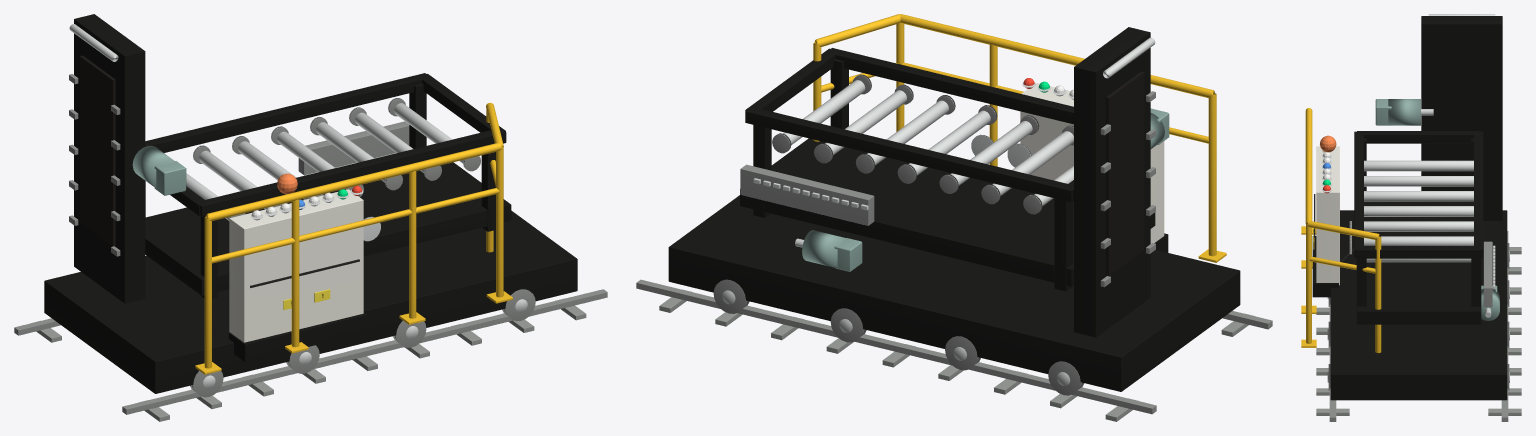
File: photo_transfer_cart_v4.glb
3 views of the same model, side by side, from view 1: azimuth 30°, elevation 25°; view 2: azimuth 150°, elevation 25°; view 3: azimuth 270°, elevation 25° (orthographic). The views are drawn at different scales.
Parts seen in each view (by area): view 1: cart_v4_heavy_black_track_chassis, cart_v4_front_electrical_cabinet_box, cart_v4_vertical_black_lift_head_plate, cart_v4_top_black_machine_frame, cart_v4_lift_head_refractory_inner_panel, cart_v4_upper_transfer_bridge_right, cart_v4_upper_transfer_bridge_left, cart_v4_track_flat_rail_-0.72, cart_v4_operator_front_top_rail, cart_v4_front_cabinet_black_plinth, cart_v4_operator_front_mid_rail, cart_v4_side_chain_cover (+19 smaller); view 2: cart_v4_heavy_black_track_chassis, cart_v4_top_black_machine_frame, cart_v4_vertical_black_lift_head_plate, cart_v4_lift_head_refractory_inner_panel, cart_v4_upper_transfer_bridge_right, cart_v4_track_flat_rail_0.72, cart_v4_upper_transfer_bridge_left, cart_v4_side_chain_cover, cart_v4_front_electrical_cabinet_box, cart_v4_operator_front_top_rail, cart_v4_upper_transfer_bridge_rear, cart_v4_transfer_frame_post_-1.06_0.48 (+19 smaller); view 3: cart_v4_heavy_black_track_chassis, cart_v4_vertical_black_lift_head_plate, cart_v4_top_black_machine_frame, cart_v4_front_electrical_cabinet_box, cart_v4_upper_transfer_bridge_rear, cart_v4_upper_transfer_bridge_front, cart_v4_black_bed_live_roller_01, cart_v4_black_bed_live_roller_02, cart_v4_black_bed_live_roller_03, cart_v4_black_bed_live_roller_04, cart_v4_black_bed_live_roller_05, cart_v4_upper_transfer_bridge_right (+20 smaller).
Part boxes in pixels (x1,y1,x2,y2): cart_v4_heavy_black_track_chassis: (44,210,577,393); cart_v4_front_electrical_cabinet_box: (229,189,363,342); cart_v4_vertical_black_lift_head_plate: (74,14,145,303); cart_v4_top_black_machine_frame: (145,162,511,295); cart_v4_lift_head_refractory_inner_panel: (80,55,115,246); cart_v4_upper_transfer_bridge_right: (145,73,425,152); cart_v4_upper_transfer_bridge_left: (196,130,506,216); cart_v4_track_flat_rail_-0.72: (122,289,607,414); cart_v4_operator_front_top_rail: (206,143,501,220); cart_v4_front_cabinet_black_plinth: (228,312,367,362); cart_v4_operator_front_mid_rail: (211,188,499,263); cart_v4_side_chain_cover: (298,121,409,175); cart_v4_heavy_black_track_chassis: (668,195,1240,391); cart_v4_top_black_machine_frame: (740,138,1155,286); cart_v4_vertical_black_lift_head_plate: (1074,27,1150,337); cart_v4_lift_head_refractory_inner_panel: (1105,71,1144,275); cart_v4_upper_transfer_bridge_right: (745,107,1072,202); cart_v4_track_flat_rail_0.72: (636,279,1156,414); cart_v4_upper_transfer_bridge_left: (827,48,1073,124); cart_v4_side_chain_cover: (740,164,874,225); cart_v4_front_electrical_cabinet_box: (1020,83,1164,243); cart_v4_operator_front_top_rail: (900,14,1214,97); cart_v4_upper_transfer_bridge_rear: (745,48,839,111); cart_v4_transfer_frame_post_-1.06_0.48: (1054,198,1072,291); cart_v4_heavy_black_track_chassis: (1330,210,1507,400); cart_v4_vertical_black_lift_head_plate: (1421,16,1502,220); cart_v4_top_black_machine_frame: (1357,201,1480,324); cart_v4_front_electrical_cabinet_box: (1316,146,1339,285); cart_v4_upper_transfer_bridge_rear: (1357,246,1480,258); cart_v4_upper_transfer_bridge_front: (1357,131,1480,143); cart_v4_black_bed_live_roller_01: (1364,160,1473,171); cart_v4_black_bed_live_roller_02: (1364,176,1473,186); cart_v4_black_bed_live_roller_03: (1364,191,1473,201); cart_v4_black_bed_live_roller_04: (1364,206,1473,216); cart_v4_black_bed_live_roller_05: (1364,221,1473,231); cart_v4_upper_transfer_bridge_right: (1474,131,1483,257).
Size of the model in its own units: 3.7 by 2.28 by 1.85.
